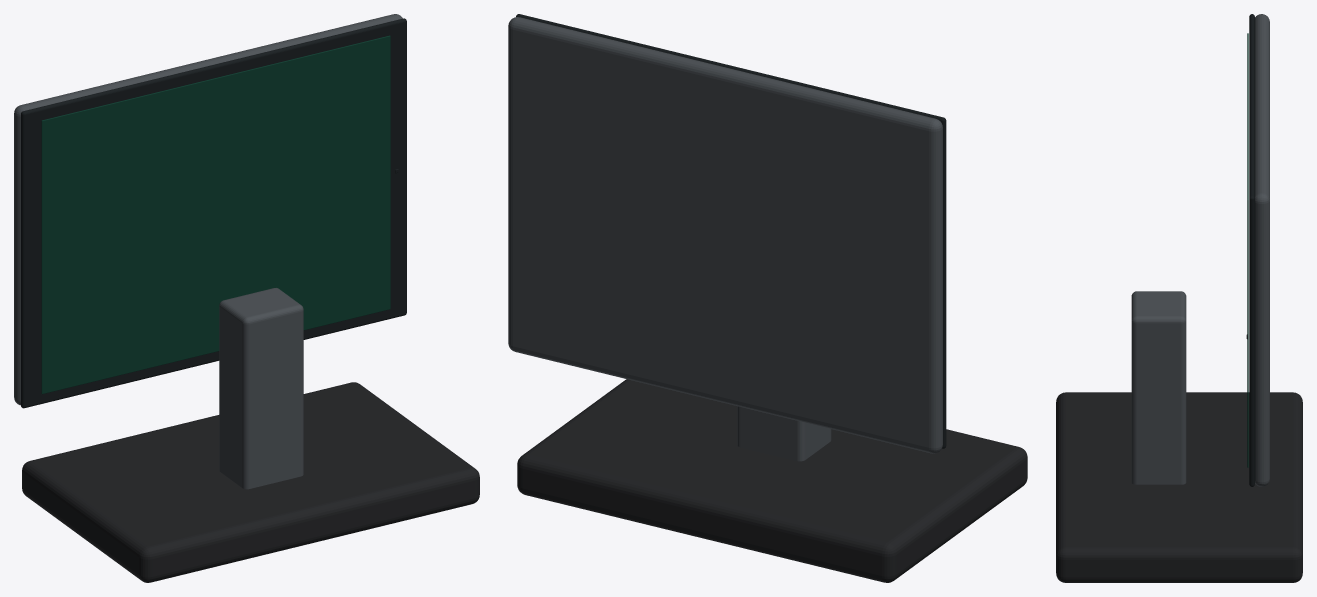
File: best.glb
3 renders of one model, left to right at view 1: azimuth 30°, elevation 25°; view 2: azimuth 150°, elevation 25°; view 3: azimuth 270°, elevation 25°, orthographic. The views are drawn at different scales.
Parts seen in each view (by area): view 1: Display landscape, Support base, Bezel, Support arm, iPad body; view 2: iPad body, Support base, Support arm, Bezel; view 3: Support base, Support arm, iPad body, Bezel, Display landscape.
Boxes of the visible parts, x1,y1,x2,y2 form: Display landscape: [41, 35, 390, 394]; Support base: [22, 382, 479, 582]; Bezel: [21, 18, 406, 408]; Support arm: [219, 288, 303, 489]; iPad body: [14, 14, 402, 405]; iPad body: [508, 17, 942, 453]; Support base: [517, 379, 1027, 582]; Support arm: [737, 406, 831, 461]; Bezel: [516, 14, 946, 448]; Support base: [1056, 392, 1302, 582]; Support arm: [1131, 291, 1186, 484]; iPad body: [1255, 14, 1269, 486]; Bezel: [1249, 14, 1254, 486]; Display landscape: [1247, 33, 1248, 467].
Bounding box in the file's own units: 0.32 × 0.323 × 0.18.
